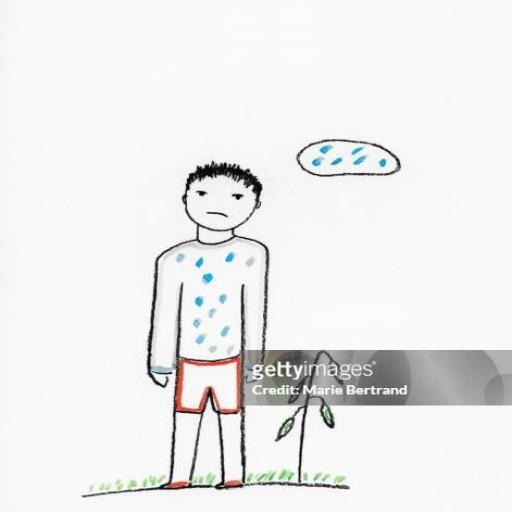person: (111, 149, 285, 505)
